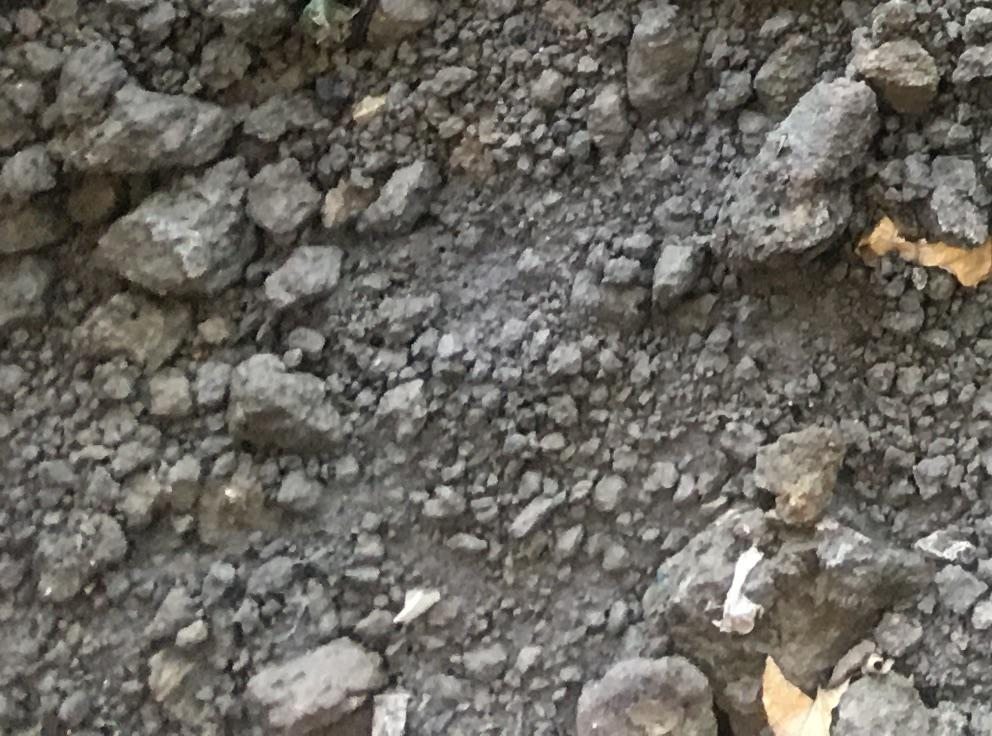block: (660, 496, 932, 730), (711, 74, 865, 265), (89, 163, 255, 293), (37, 87, 233, 173), (224, 352, 352, 456)
